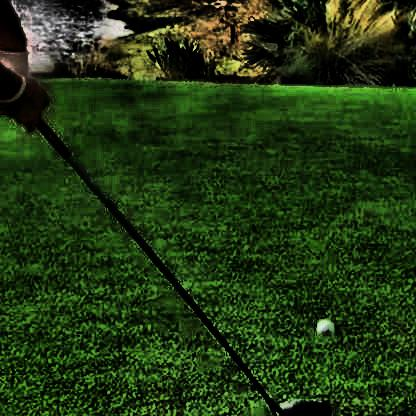golfball: (314, 315, 331, 335)
